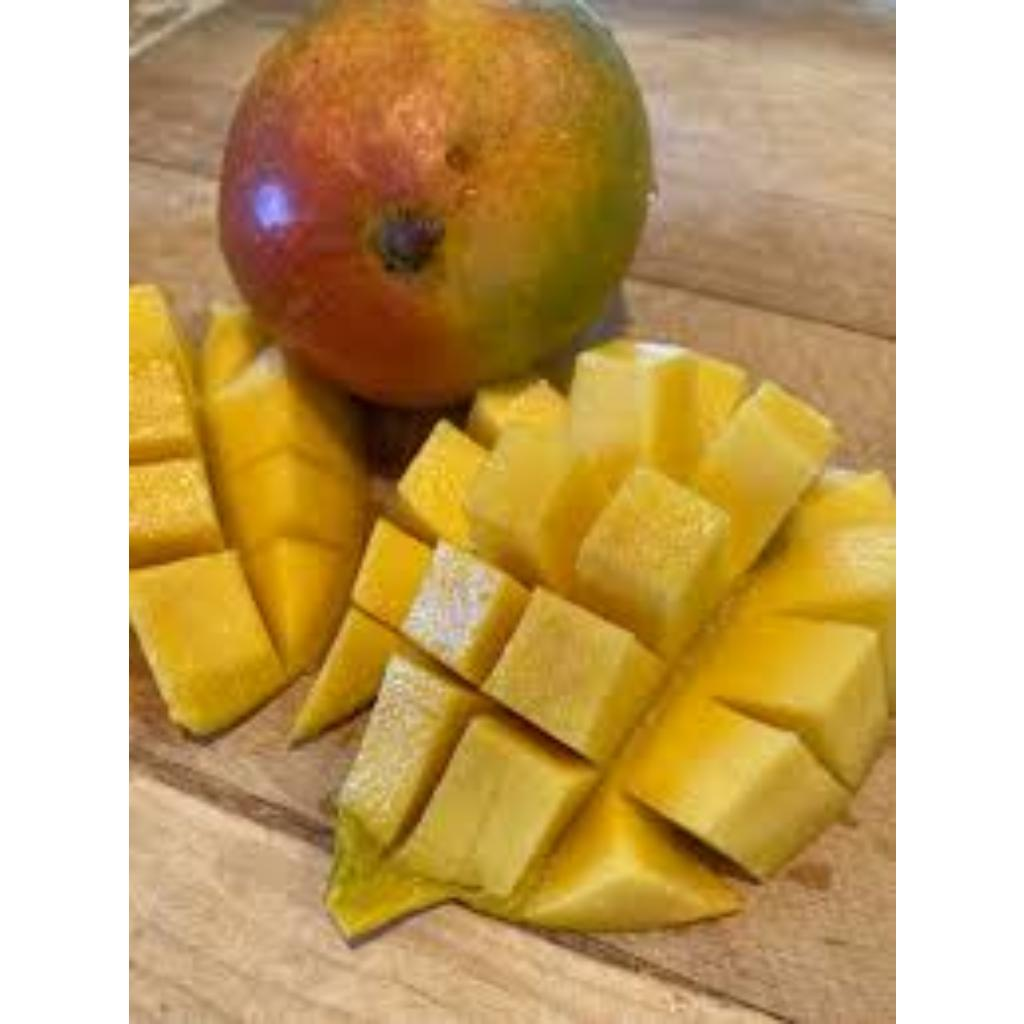mango: (286, 340, 895, 949), (128, 283, 378, 737)
